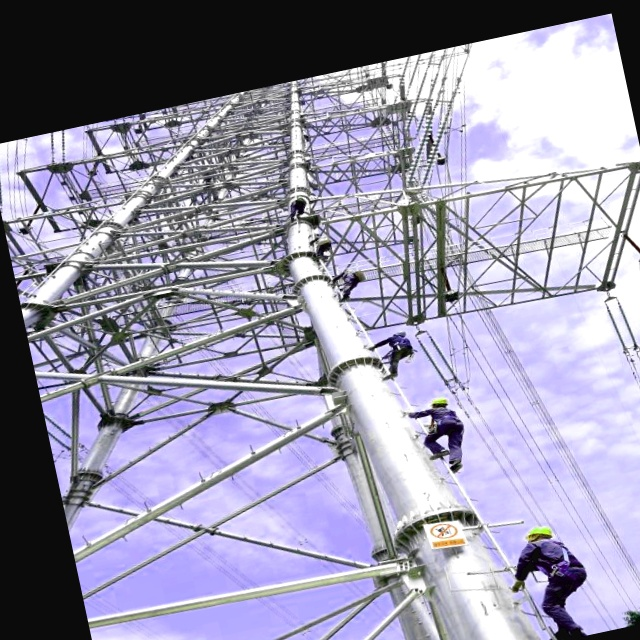Con_Casco: (524, 524, 555, 543), (429, 395, 450, 409)
